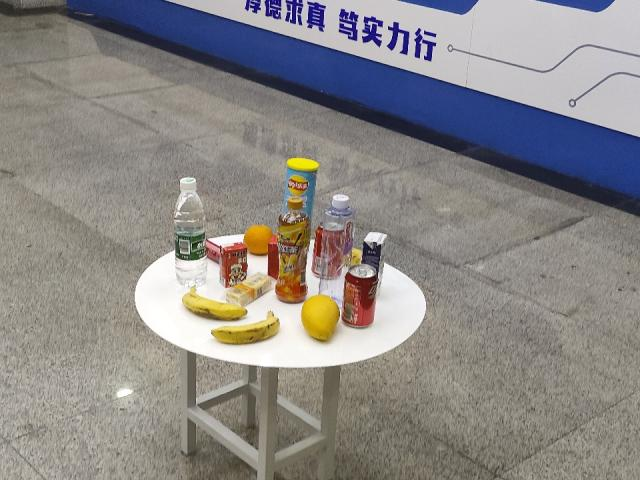Canned_drinks: (345, 266, 370, 325)
bottle: (173, 179, 210, 290), (318, 195, 349, 297)
drink_box: (218, 244, 245, 280), (364, 230, 383, 266)
